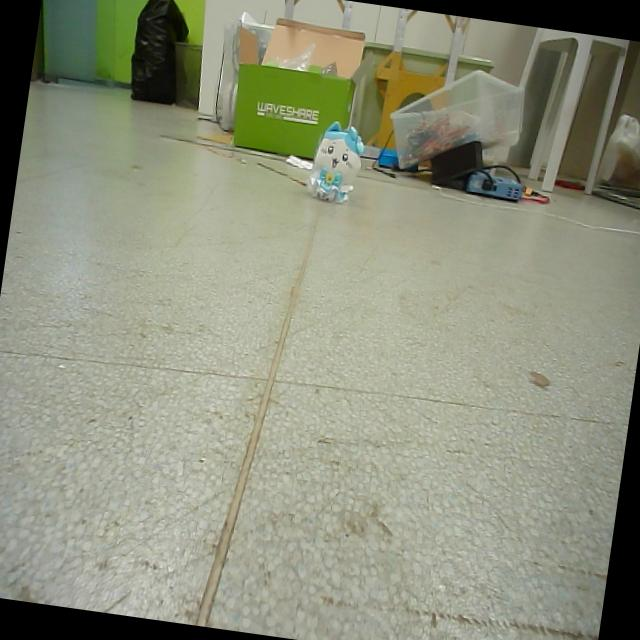xiaoba: (303, 116, 369, 210)
